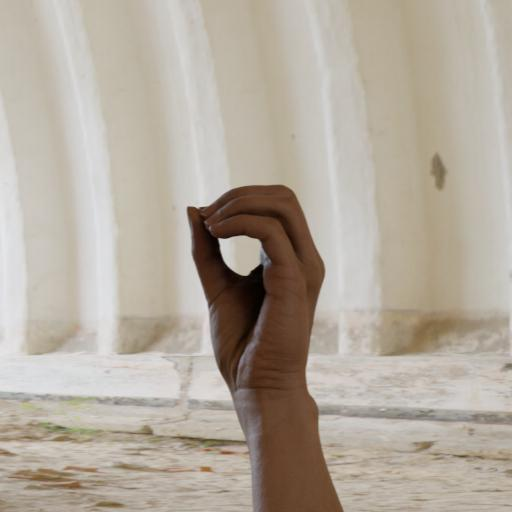O: (178, 178, 336, 401)
